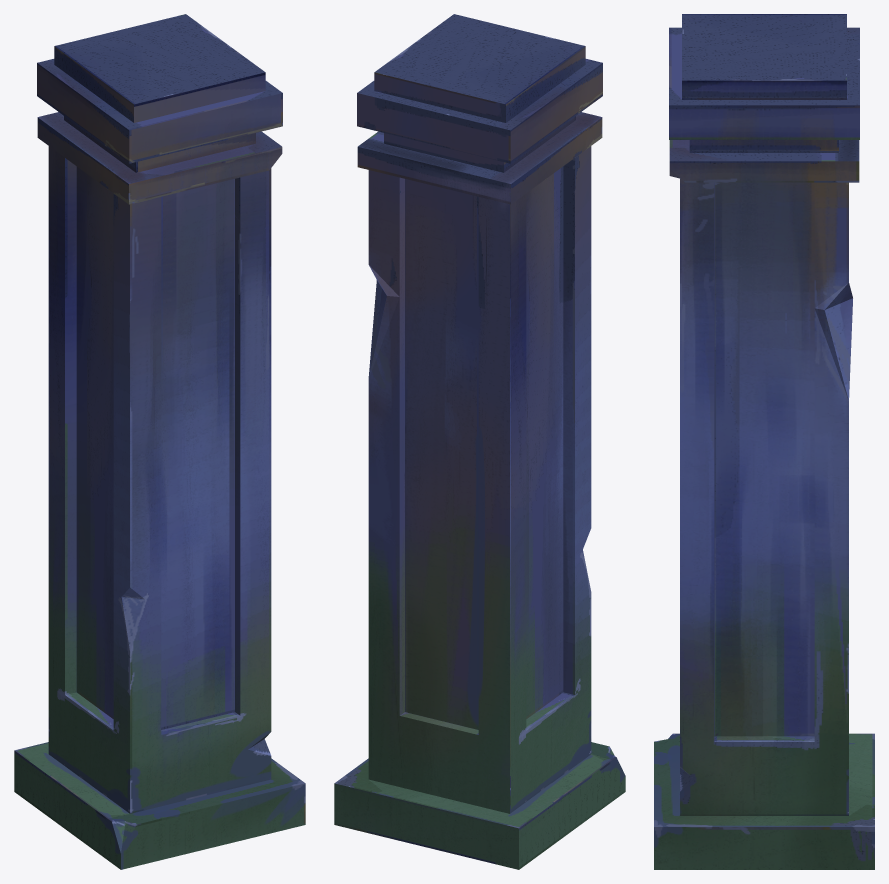
File: pillar02 1.fbx
3 views of the same model, side by side, from view 1: azimuth 30°, elevation 25°; view 2: azimuth 150°, elevation 25°; view 3: azimuth 270°, elevation 25° (orthographic). The views are drawn at different scales.
Visible parts, largest first — view 1: Pillar_01; view 2: Pillar_01; view 3: Pillar_01.
Part boxes in pixels (x1,y1,x2,y2): Pillar_01: (14, 14, 305, 869); Pillar_01: (334, 14, 625, 869); Pillar_01: (654, 14, 874, 869).
Size of the model in its own units: 103 by 399 by 103.
